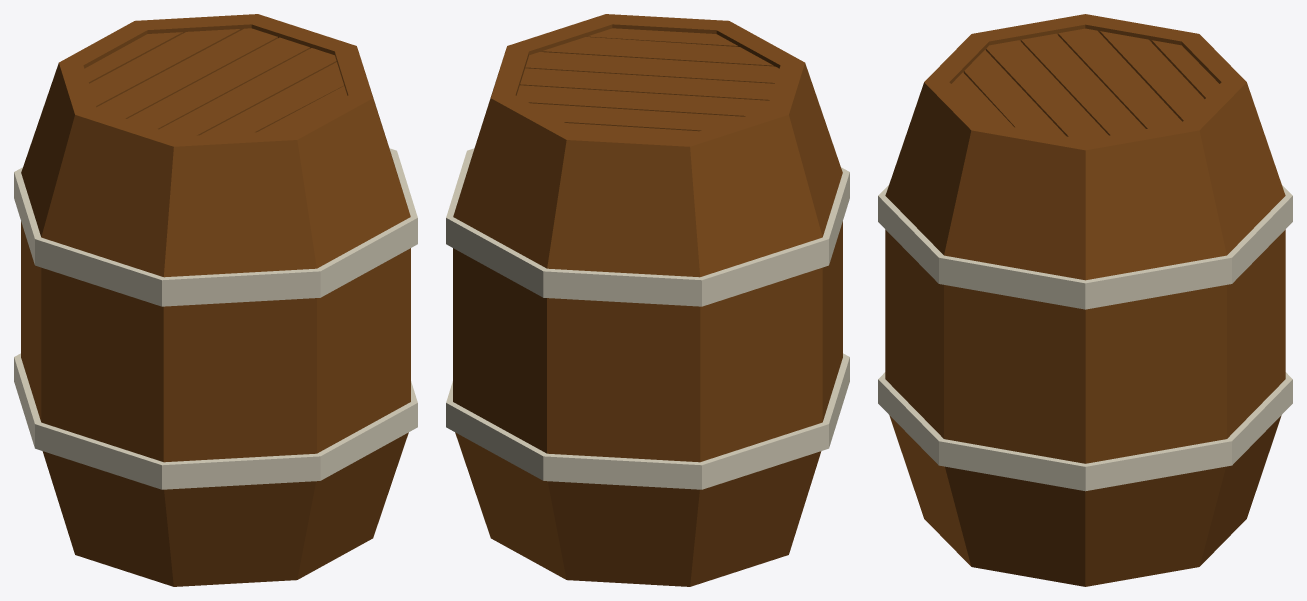
The model's file is barrel_closed.fbx.
3 views of the same model, side by side, from view 1: azimuth 30°, elevation 25°; view 2: azimuth 150°, elevation 25°; view 3: azimuth 270°, elevation 25° (orthographic).
Parts seen in each view (by area): view 1: barrel_closed; view 2: barrel_closed; view 3: barrel_closed.
Boxes of the visible parts, left/top/right/bottom form: barrel_closed: left=14, top=14, right=417, bottom=586; barrel_closed: left=446, top=14, right=849, bottom=586; barrel_closed: left=878, top=14, right=1292, bottom=586.
Bounding box in the file's own units: 58.18 × 67.59 × 58.18.
